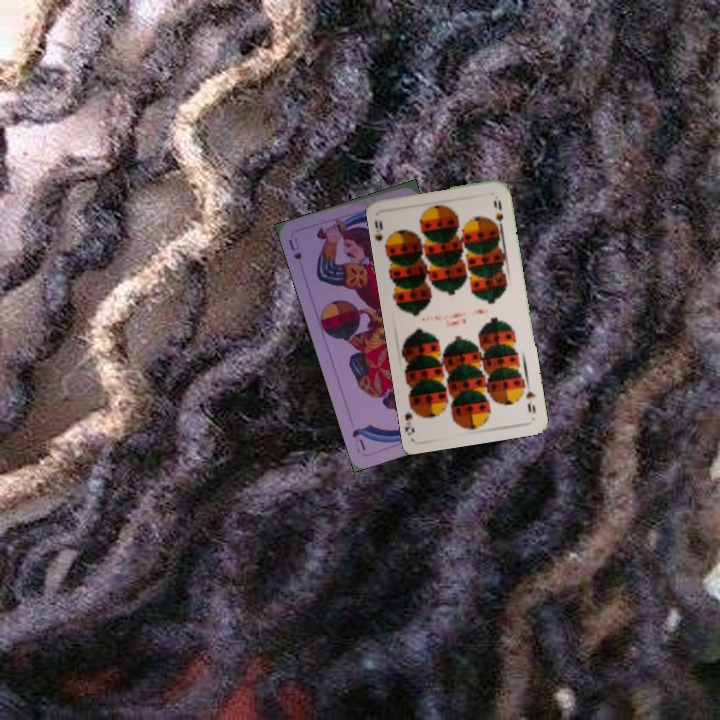S9: (522, 379, 538, 416), (375, 217, 392, 251)
SU: (285, 233, 304, 263)
